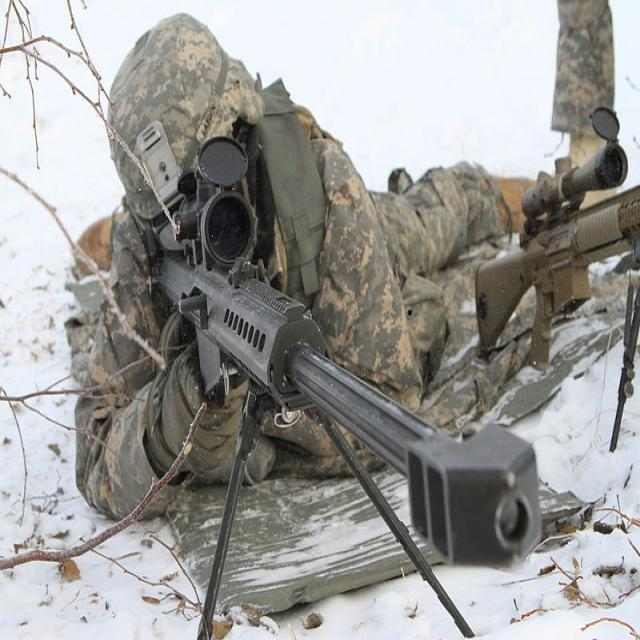rifle: (142, 130, 540, 640), (464, 111, 640, 370)
